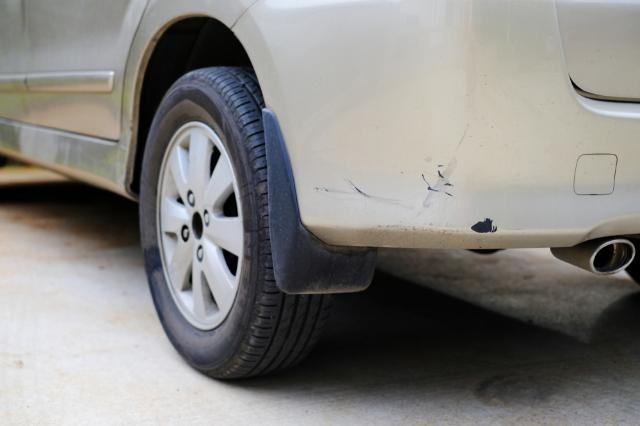scratch: (313, 154, 500, 236)
